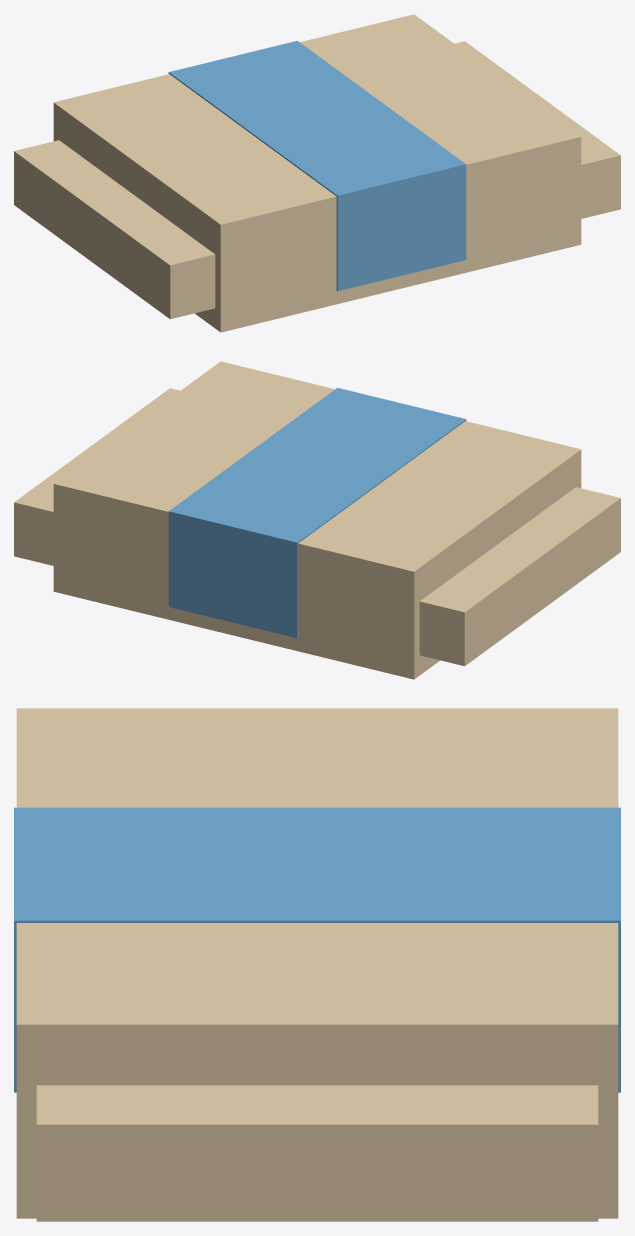
Rendered from saco.glb.
3 renders of one model, top to bottom at view 1: azimuth 30°, elevation 25°; view 2: azimuth 150°, elevation 25°; view 3: azimuth 270°, elevation 25°, orthographic. The views are drawn at different scales.
Parts seen in each view (by area): view 1: corpo; view 2: corpo; view 3: corpo.
Part boxes in pixels (left/top/right/bottom): corpo: left=14, top=14, right=620, bottom=332; corpo: left=14, top=361, right=620, bottom=679; corpo: left=14, top=708, right=620, bottom=1221.
Size of the model in its own units: 0.7 by 0.162 by 0.454.
